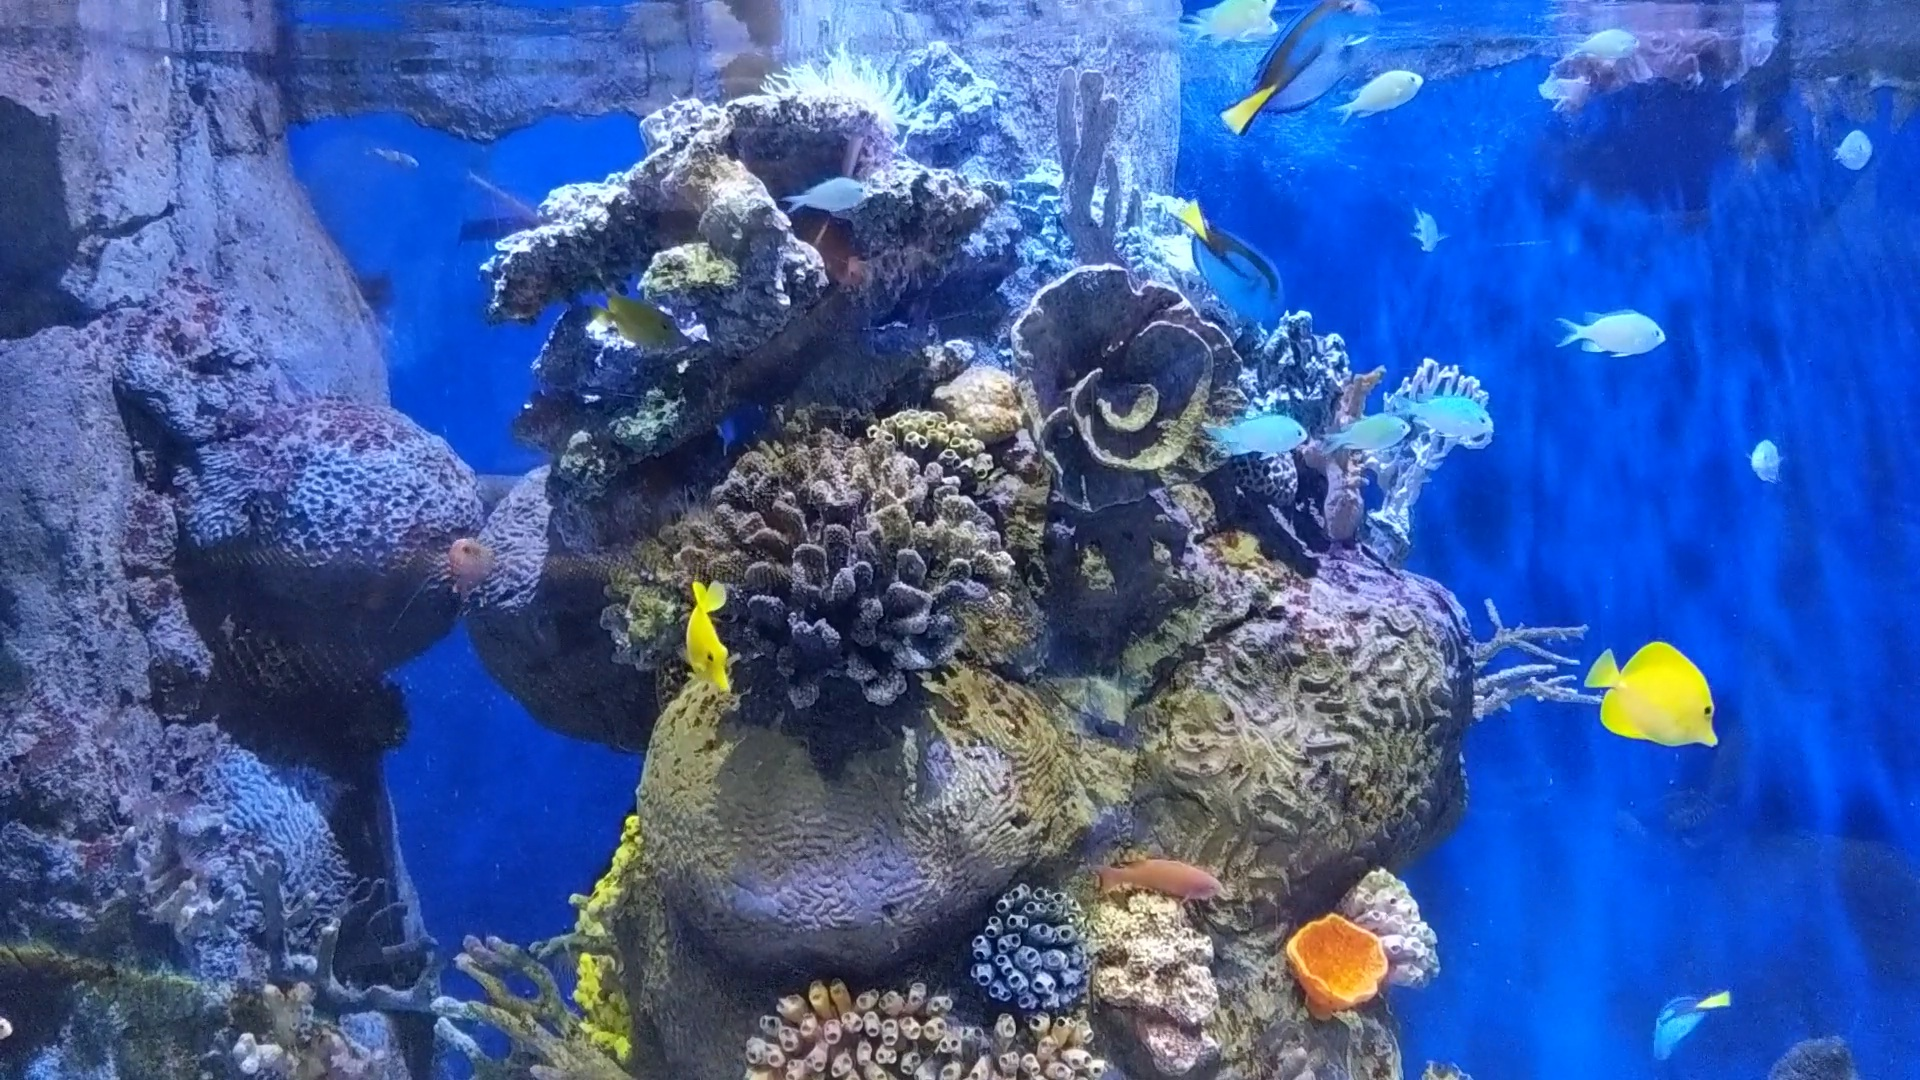blue tang surgeonfish: (1184, 0, 1395, 144), (1150, 200, 1342, 316), (1621, 976, 1771, 1080)
damselfish: (1514, 284, 1675, 375), (1182, 382, 1311, 468), (1390, 382, 1516, 463), (750, 160, 885, 219), (1321, 63, 1433, 131), (1803, 117, 1898, 195), (1557, 24, 1648, 96), (1325, 401, 1415, 473), (1738, 425, 1818, 495), (1400, 179, 1455, 276), (1178, 11, 1290, 41), (1179, 3, 1255, 44)
saddle butterfly fish: (1551, 618, 1753, 756), (655, 575, 778, 711), (559, 284, 709, 375)
